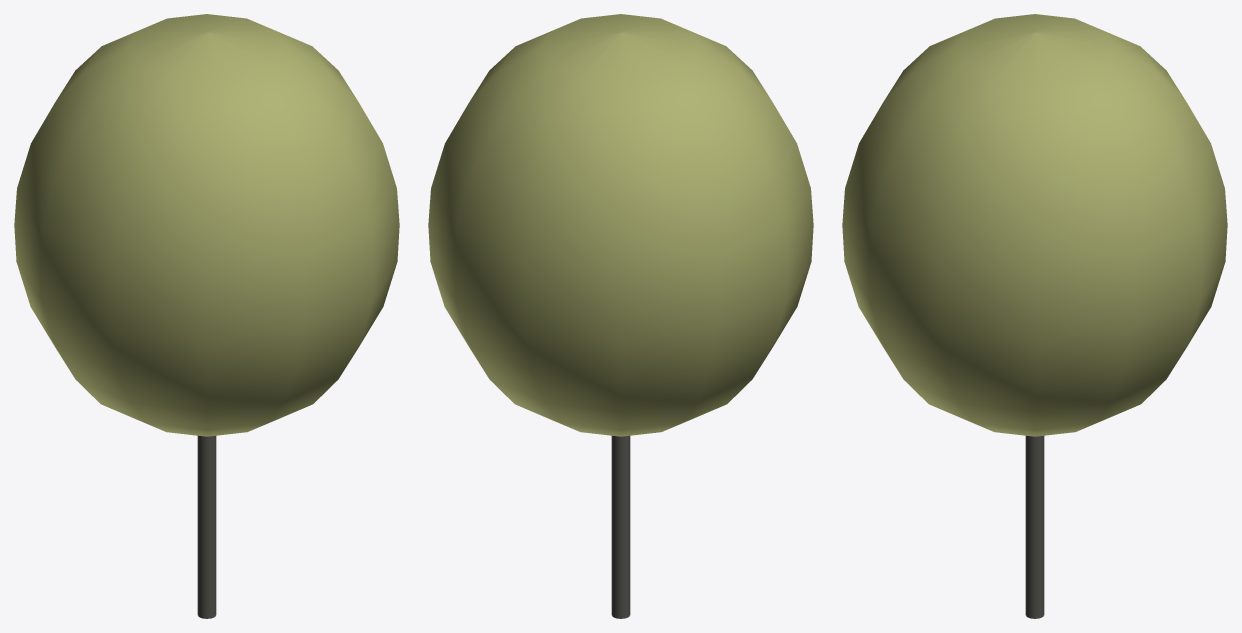
Rendered from Common_Whitebeam_Analytical_0.obj.
3 renders of one model, left to right at view 1: azimuth 30°, elevation 25°; view 2: azimuth 150°, elevation 25°; view 3: azimuth 270°, elevation 25°, orthographic.
Parts seen in each view (by area): view 1: AnalyticalCrown, AnalyticalTrunk; view 2: AnalyticalCrown, AnalyticalTrunk; view 3: AnalyticalCrown, AnalyticalTrunk.
Boxes of the visible parts, box(x1,y1,x2,y2) form: AnalyticalCrown: box(14, 14, 399, 436); AnalyticalTrunk: box(197, 435, 216, 618); AnalyticalCrown: box(428, 14, 813, 436); AnalyticalTrunk: box(611, 435, 630, 618); AnalyticalCrown: box(842, 14, 1227, 436); AnalyticalTrunk: box(1025, 435, 1044, 618).
Size of the model in its own units: 12 by 20 by 12.
